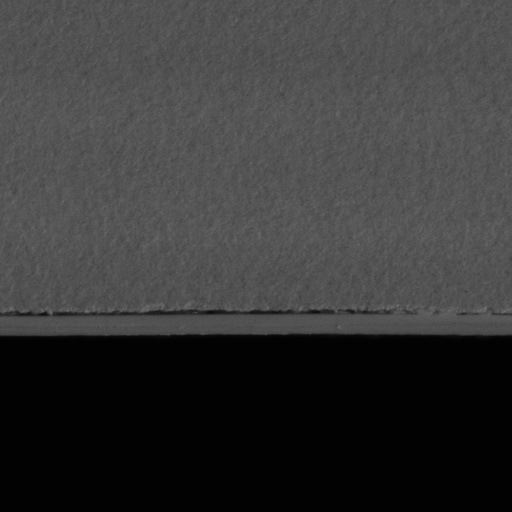jiaofeng: (0, 303, 394, 328)
